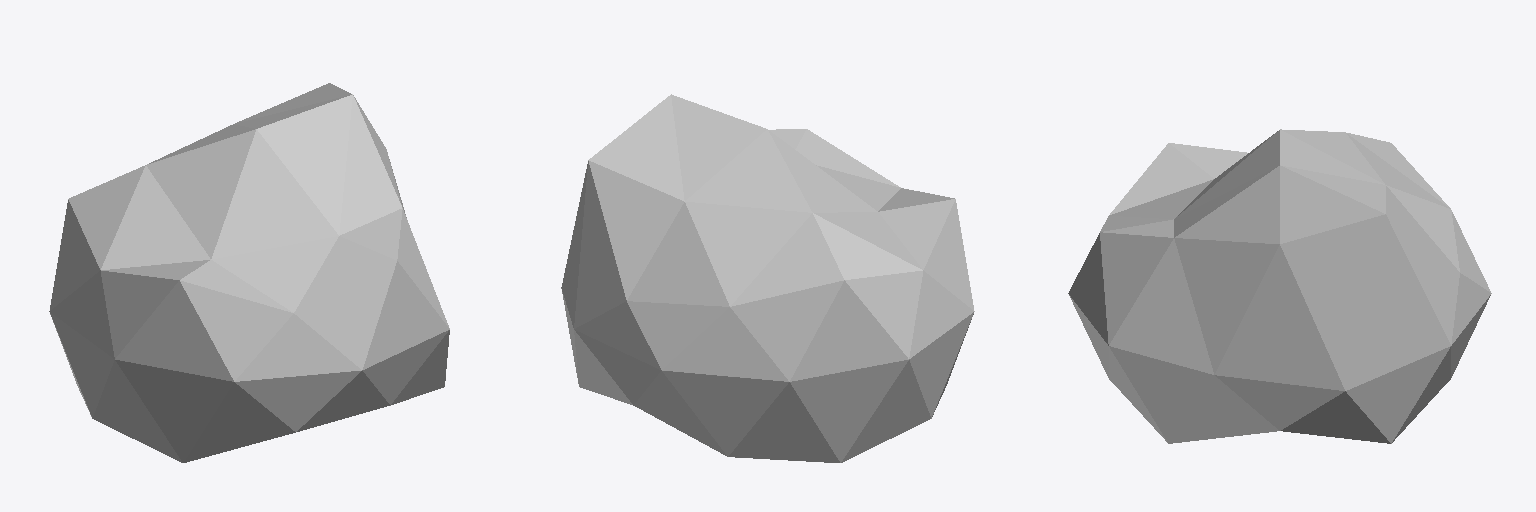
Rendered from stone.obj.
3 views of the same model, side by side, from view 1: azimuth 30°, elevation 25°; view 2: azimuth 150°, elevation 25°; view 3: azimuth 270°, elevation 25° (orthographic).
Visible parts, largest first — view 1: Icosphere; view 2: Icosphere; view 3: Icosphere.
Boxes of the visible parts, box(x1,y1,x2,y2) form: Icosphere: box(49, 83, 449, 462); Icosphere: box(561, 94, 974, 462); Icosphere: box(1068, 129, 1491, 443).
Bounding box in the file's own units: 2.98 × 2.26 × 3.14.